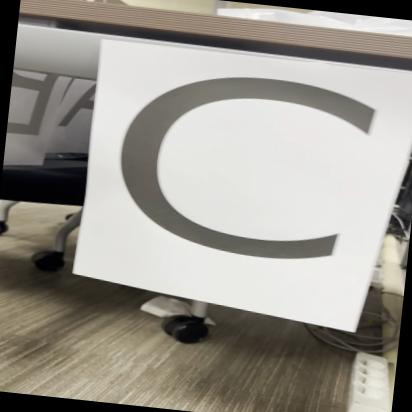seat: (92, 38, 412, 336)
